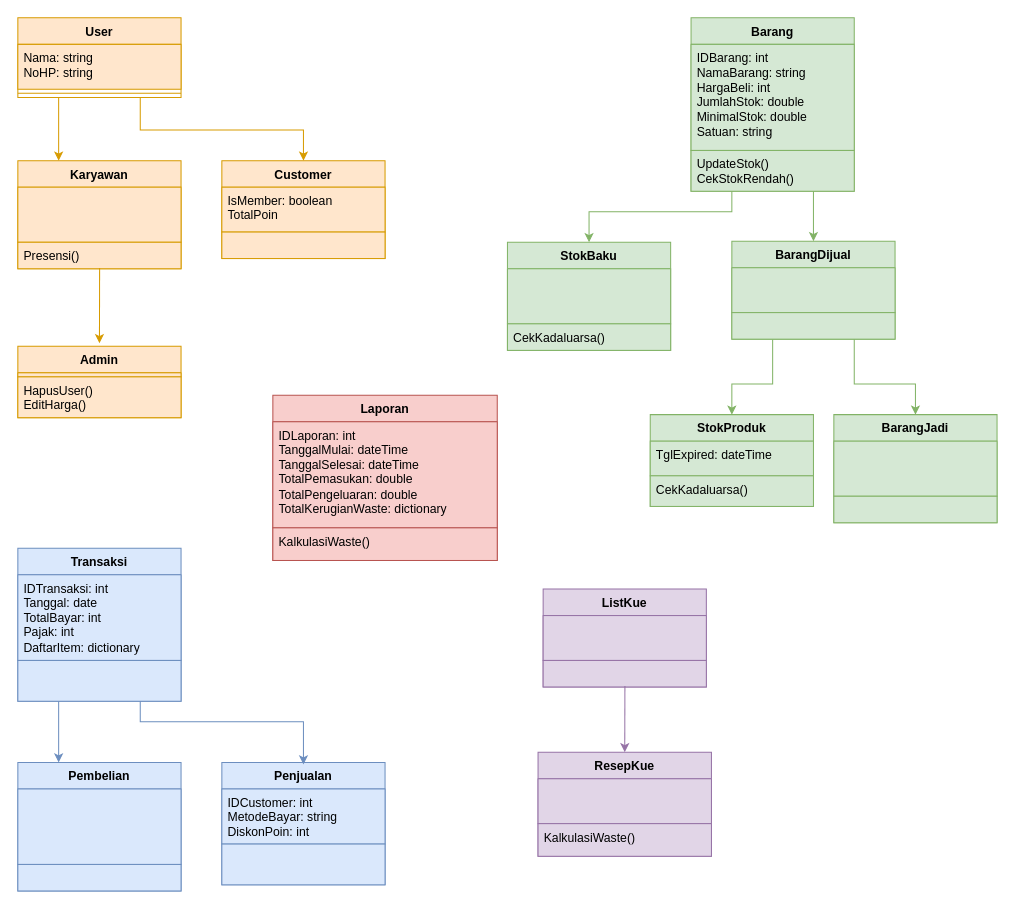
This 1015x912 diagram has some shape labels left out. The shapes that lost their labels are listed below. From the top down, each one's centre as x and y in pixels, then its label:
At [99,214]: "IDPegawai: int Jabatan: string Gaji: int".
At [303,245]: "TukarPoin()".
At [588,296]: "TglExpired: date".
At [813,290]: "HargaJual: int Kategori: string".
At [813,325]: "HitungProfit()".
At [915,468]: "Vendor: string Dimensi: string Warna: string".
At [915,509]: "TampilkanSpesifikasi()".
At [624,637]: "NamaKue: string Deskripsi: string".
At [99,680]: "HitungTotal() CetakStruk()".
At [624,673]: "TampilkanMenu()".
At [624,801]: "DaftarBahanBaku: dictionary LamaMasak: double".
At [99,826]: "SupplierID: int KodeNota: int Status: string".
At [99,877]: "InputPengeluaran()".
At [303,864]: "HitungPoin() ValidasiPembayaran()".
